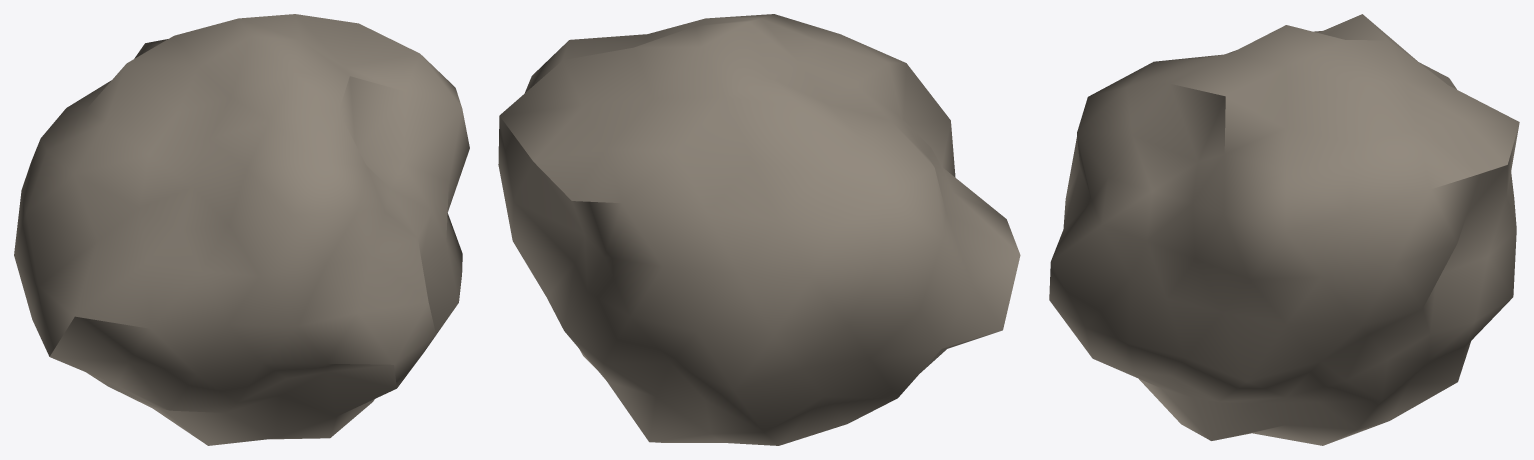
File: rock_1.glb
3 renders of one model, left to right at view 1: azimuth 30°, elevation 25°; view 2: azimuth 150°, elevation 25°; view 3: azimuth 270°, elevation 25°, orthographic. The views are drawn at different scales.
Visible parts, largest first — view 1: Rock; view 2: Rock; view 3: Rock.
Part boxes in pixels (x1,y1,x2,y2): Rock: (14, 14, 469, 445); Rock: (498, 14, 1020, 445); Rock: (1049, 14, 1519, 445).
Bounding box in the file's own units: 1.12 × 0.9674 × 1.03.
